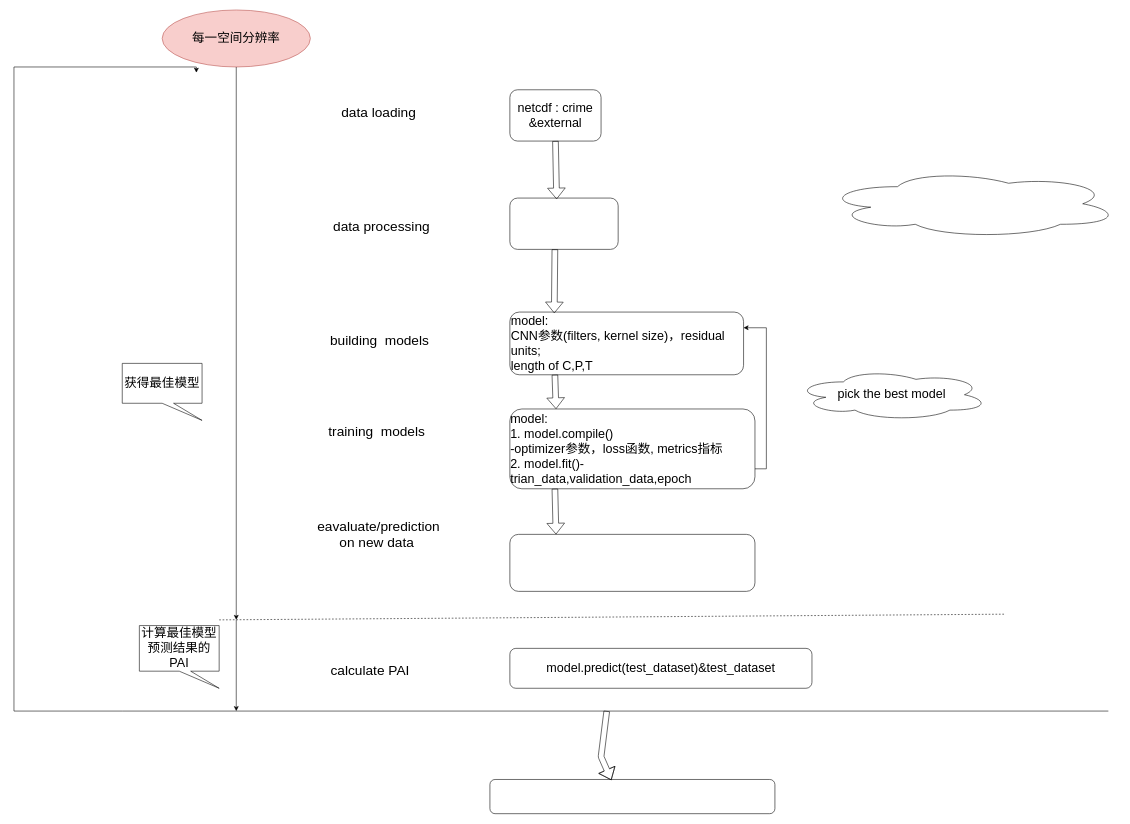
The diagram is 1130 pixels wide and 824 high, and some of its shapes have lost their labels. The shapes that lost their labels are listed below. From the top down, each one's box as (x1, y1, x2, y2) in pixels, then its label:
(509, 198, 618, 249): npy:normalization?
(823, 169, 1120, 238): C,P,T的数据准备在哪一步
(509, 534, 755, 591): model.evaluate(test_dataset)
(489, 779, 775, 814): 最佳PAI的空间分辨率所在的模型
